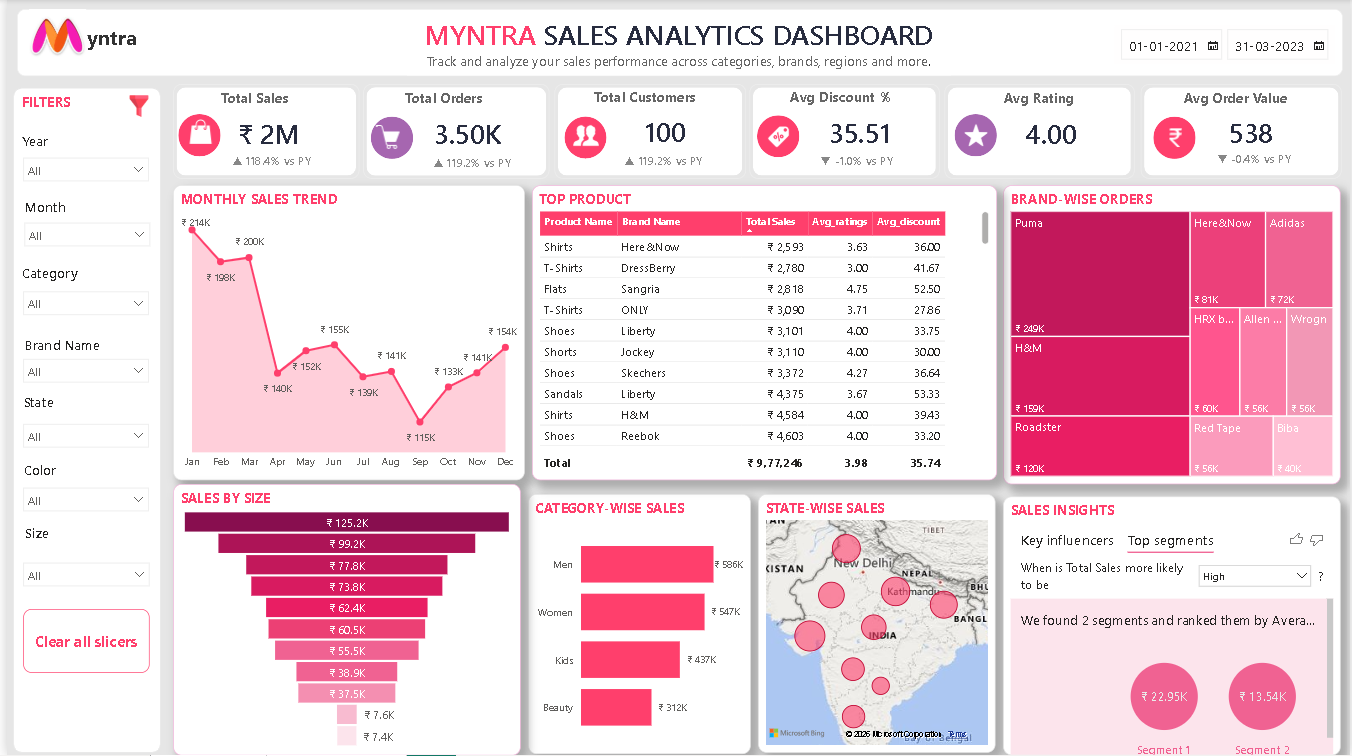

The page's visual inventory and layout, read from the dashboard file:
{"tool":"powerbi","page":{"name":"Overview","canvas":[1600,900],"ordinal":0},"visuals":[{"type":"textbox","box":[11.9,11.9,1578,80],"z":0,"group":"g1"},{"type":"shape","box":[197.9,101.2,221.7,113.1],"z":0,"group":"g7"},{"type":"cardVisual","fields":{"Data":["Measures_table.Order vs PY %"]},"box":[1413.7,236.6,186,50.6],"z":0},{"type":"shape","box":[1349.7,101.2,239.6,113.1],"z":1000,"group":"g2"},{"type":"shape","box":[7.4,105.7,175.6,791.7],"z":1000},{"type":"shape","box":[883.9,101.2,226.2,113.1],"z":2000,"group":"g4"},{"type":"areaChart","title":"MONTHLY SALES TREND","fields":{"Category":["Date_table.Month_name"],"Y":["Measures_table.Total_sales_amount"]},"box":[197.9,221.7,418.2,351.2],"z":2000},{"type":"shape","box":[651.8,101.2,227.7,113.1],"z":3000,"group":"g5"},{"type":"clusteredBarChart","title":" CATEGORY-WISE SALES","fields":{"Y":["Measures_table.Total_sales_amount"],"Category":["dim_products.Category"]},"box":[620.5,589.2,264.9,309.5],"z":3000},{"type":"shape","box":[1116.1,101.2,226.2,113.1],"z":4000,"group":"g3"},{"type":"treemap","title":"BRAND-WISE ORDERS","fields":{"Group":["dim_products.Brand Name"],"Values":["Measures_table.Total_sales_amount"]},"box":[1186,221.7,401.8,355.7],"z":4000},{"type":"shape","box":[424.1,101.2,221.7,113.1],"z":5000,"group":"g6"},{"type":"map","title":"STATE-WISE SALES","fields":{"Category":["dim_customers.State"],"Size":["Measures_table.Total Sales"]},"box":[894.3,589.9,282.7,308],"z":5000},{"type":"textbox","box":[689,99.7,184.5,37.2],"z":6000,"group":"g5"},{"type":"textbox","box":[245.5,101.2,128,38.7],"z":6000,"group":"g7"},{"type":"tableEx","title":"TOP PRODUCT","fields":{"Values":["dim_products.Product Name","dim_products.Brand Name","Measures_table.Total_sales_amount","Measures_table.Avg_ratings","Measures_table.Avg_discount"]},"box":[624.3,221.7,553.6,351.2],"z":6000},{"type":"textbox","box":[90.8,23.8,92.3,43.2],"z":7000,"group":"g1"},{"type":"textbox","box":[1177.1,101.2,154.8,34.2],"z":7000,"group":"g3"},{"type":"funnel","title":"SALES BY SIZE","fields":{"Category":["dim_products.Size"],"Y":["Measures_table.Total_sales_amount"]},"box":[197.9,577.4,413.7,322.9],"z":7000},{"type":"group","id":"g1","title":"Group 1","box":[11.9,11.9,1577.4,80.4],"z":8000},{"type":"image","box":[23.8,11.9,72.9,68.5],"z":8000,"group":"g1"},{"type":"textbox","box":[922.6,99.7,181.5,35.7],"z":8000,"group":"g4"},{"type":"textbox","box":[476.2,56.5,647.3,34.2],"z":9000,"group":"g1"},{"type":"group","id":"g2","title":"Group 3","box":[1349.7,101.2,242.6,120.5],"z":9000},{"type":"textbox","box":[1391.4,101.2,175.6,40.2],"z":9000,"group":"g2"},{"type":"group","id":"g3","title":"Group 4","box":[1116.1,101.2,227.7,113.1],"z":10000},{"type":"shape","box":[433,139.9,50.6,50.6],"z":10000,"group":"g6"},{"type":"group","id":"g4","title":"Group 5","box":[883.9,99.7,241.1,122],"z":11000},{"type":"shape","box":[203.9,136.9,50.6,50.6],"z":11000,"group":"g7"},{"type":"shape","box":[663.7,139.9,50,50],"z":11000,"group":"g5"},{"type":"group","id":"g5","title":"Group 6","box":[651.8,99.7,232.1,117.6],"z":12000},{"type":"shape","box":[1128,136.9,50.6,50.6],"z":12000,"group":"g3"},{"type":"group","id":"g6","title":"Group 7","box":[424.1,101.2,232.1,119],"z":13000},{"type":"shape","box":[892.8,138.4,50.6,50],"z":13000,"group":"g4"},{"type":"group","id":"g7","title":"Group 2","box":[197.9,101.2,232.1,117.6],"z":14000},{"type":"shape","box":[1364.6,139.9,50.6,50.6],"z":14000,"group":"g2"},{"type":"group","id":"g8","title":"Group 8","box":[8.9,105.7,171.1,620.5],"z":15000},{"type":"cardVisual","fields":{"Data":["Measures_table.Total_sales_amount"]},"box":[245.5,123.5,160.7,71.4],"z":15000,"group":"g7"},{"type":"cardVisual","fields":{"Data":["Measures_table.Total_orders","Measures_table.Total_orders"]},"box":[479.2,126.5,169.6,65.5],"z":16000,"group":"g6"},{"type":"actionButton","title":"Clear all filters","box":[19.3,726.2,150.3,75.9],"z":16000},{"type":"cardVisual","fields":{"Data":["Measures_table.Total_customers"]},"box":[730.7,123.5,150.3,67],"z":17000,"group":"g5"},{"type":"image","box":[215.8,142.9,29.8,29.8],"z":17000,"group":"g7"},{"type":"keyDriversVisual","title":"SALES INSIGHTS","fields":{"Target":["Measures_table.Total Sales"],"ExplainBy":["dim_products.Category","dim_products.Brand Name","Sum(fact_orders.Discount%)","dim_products.Ratings"]},"box":[1186,592.3,401.8,308],"z":17000},{"type":"image","box":[144.3,114.6,25.3,25.3],"z":18000},{"type":"cardVisual","fields":{"Data":["Measures_table.Avg_ratings"]},"box":[1183.1,123.5,160.7,72.9],"z":18000,"group":"g3"},{"type":"cardVisual","fields":{"Data":["Measures_table.Avg_discount"]},"box":[949.4,120.5,166.7,75.9],"z":19000,"group":"g4"},{"type":"cardVisual","fields":{"Data":["Measures_table.Average_order_value"]},"box":[1425.6,117.6,136.9,81.8],"z":20000,"group":"g2"},{"type":"cardVisual","fields":{"Data":["Measures_table.Order vs PY %"]},"box":[706.9,165.2,177.1,52.1],"z":22000,"group":"g5"},{"type":"cardVisual","fields":{"Data":["Measures_table.Discount vs PY %"]},"box":[940.4,160.7,184.5,61],"z":23000,"group":"g4"},{"type":"cardVisual","fields":{"Data":["Measures_table.AOV vs PY %"]},"box":[1412.2,157.7,180.1,64],"z":24000,"group":"g2"},{"type":"cardVisual","fields":{"Data":["Measures_table.Sales vs PY %"]},"box":[239.6,163.7,190.5,55.1],"z":24000,"group":"g7"},{"type":"textbox","box":[13.4,105.7,89.3,39.5],"z":26000,"group":"g8"},{"type":"slicer","fields":{"Values":["Date_table.YEAR"]},"box":[9,178.9,170,57.8],"z":27000,"group":"g8"},{"type":"textbox","box":[14,151.1,87,40.4],"z":28000,"group":"g8"},{"type":"textbox","box":[468.7,101.2,136.9,35.7],"z":29000,"group":"g6"},{"type":"textbox","box":[17,230.9,87,40.4],"z":30000,"group":"g8"},{"type":"textbox","box":[13,309.4,87,40.4],"z":31000,"group":"g8"},{"type":"textbox","box":[15,463,87,40.4],"z":32000,"group":"g8"},{"type":"textbox","box":[17,394.9,117,40.4],"z":33000,"group":"g8"},{"type":"textbox","box":[15,543.9,87,40.4],"z":34000,"group":"g8"},{"type":"textbox","box":[17,619,87,40.4],"z":35000,"group":"g8"},{"type":"slicer","fields":{"Values":["Date_table.Month_name"]},"box":[10,256.3,170,57.8],"z":36000,"group":"g8"},{"type":"slicer","fields":{"Values":["dim_products.Size"]},"box":[8.9,660.9,171.1,65.3],"z":37000,"group":"g8"},{"type":"slicer","fields":{"Values":["dim_products.Category"]},"box":[9,338.3,170,56.6],"z":38000,"group":"g8"},{"type":"slicer","fields":{"Values":["dim_products.Brand Name"]},"box":[9,418,170,56.6],"z":39000,"group":"g8"},{"type":"slicer","fields":{"Values":["dim_customers.State"]},"box":[9,495.4,170,57.8],"z":40000,"group":"g8"},{"type":"slicer","fields":{"Values":["dim_products.Color"]},"box":[9,571.6,170,56.6],"z":41000,"group":"g8"},{"type":"image","box":[1138.4,147.3,30,30],"z":42000,"group":"g3"},{"type":"image","box":[439,148.8,29.8,29.8],"z":43000,"group":"g6"},{"type":"image","box":[903.2,148.8,30,30],"z":44000,"group":"g4"},{"type":"image","box":[674.1,147.3,30,30],"z":45000,"group":"g5"},{"type":"image","box":[1376.5,150.3,29.8,29.8],"z":46000,"group":"g2"},{"type":"cardVisual","fields":{"Data":["Measures_table.Order vs PY %"]},"box":[479.2,168.2,177.1,52.1],"z":56000,"group":"g6"},{"type":"slicer","fields":{"Values":["Date_table.Date"]},"box":[1318.6,30.6,263.4,46.1],"z":61000,"group":"g1"}]}

Visuals, with their boxes in screenshot pixels (x1, y1, x2, y2), scaled from the page's 1600x900 canvas onto the 1352x756 screenshot:
textbox: 10/10/1343/77
shape: 167/85/355/180
cardVisual - Measures_table.Order vs PY %: 1195/199/1351/241
shape: 1140/85/1343/180
shape: 6/89/155/754
shape: 747/85/938/180
"MONTHLY SALES TREND" areaChart: 167/186/521/481
shape: 551/85/743/180
" CATEGORY-WISE SALES" clusteredBarChart: 524/495/748/755
shape: 943/85/1134/180
"BRAND-WISE ORDERS" treemap: 1002/186/1342/485
shape: 358/85/546/180
"STATE-WISE SALES" map: 756/496/995/754
textbox: 582/84/738/115
textbox: 207/85/316/118
"TOP PRODUCT" tableEx: 528/186/995/481
textbox: 77/20/155/56
textbox: 995/85/1125/114
"SALES BY SIZE" funnel: 167/485/517/755
"Group 1" group: 10/10/1343/78
image: 20/10/82/68
textbox: 780/84/933/114
textbox: 402/47/949/76
"Group 3" group: 1140/85/1345/186
textbox: 1176/85/1324/119
"Group 4" group: 943/85/1136/180
shape: 366/118/409/160
"Group 5" group: 747/84/951/186
shape: 172/115/215/158
shape: 561/118/603/160
"Group 6" group: 551/84/747/183
shape: 953/115/996/158
"Group 7" group: 358/85/554/185
shape: 754/116/797/158
"Group 2" group: 167/85/363/184
shape: 1153/118/1196/160
"Group 8" group: 8/89/152/610
cardVisual - Measures_table.Total_sales_amount: 207/104/343/164
cardVisual - Measures_table.Total_orders x Measures_table.Total_orders: 405/106/548/161
"Clear all filters" actionButton: 16/610/143/674
cardVisual - Measures_table.Total_customers: 617/104/744/160
image: 182/120/208/145
"SALES INSIGHTS" keyDriversVisual: 1002/498/1342/755
image: 122/96/143/118
cardVisual - Measures_table.Avg_ratings: 1000/104/1136/165
cardVisual - Measures_table.Avg_discount: 802/101/943/165
cardVisual - Measures_table.Average_order_value: 1205/99/1320/167
cardVisual - Measures_table.Order vs PY %: 597/139/747/183
cardVisual - Measures_table.Discount vs PY %: 795/135/951/186
cardVisual - Measures_table.AOV vs PY %: 1193/132/1345/186
cardVisual - Measures_table.Sales vs PY %: 202/138/363/184
textbox: 11/89/87/122
slicer - Date_table.YEAR: 8/150/151/199
textbox: 12/127/85/161
textbox: 396/85/512/115
textbox: 14/194/88/228
textbox: 11/260/84/294
textbox: 13/389/86/423
textbox: 14/332/113/366
textbox: 13/457/86/491
textbox: 14/520/88/554
slicer - Date_table.Month_name: 8/215/152/264
slicer - dim_products.Size: 8/555/152/610
slicer - dim_products.Category: 8/284/151/332
slicer - dim_products.Brand Name: 8/351/151/399
slicer - dim_customers.State: 8/416/151/465
slicer - dim_products.Color: 8/480/151/528
image: 962/124/987/149
image: 371/125/396/150
image: 763/125/789/150
image: 570/124/595/149
image: 1163/126/1188/151
cardVisual - Measures_table.Order vs PY %: 405/141/555/185
slicer - Date_table.Date: 1114/26/1337/64
